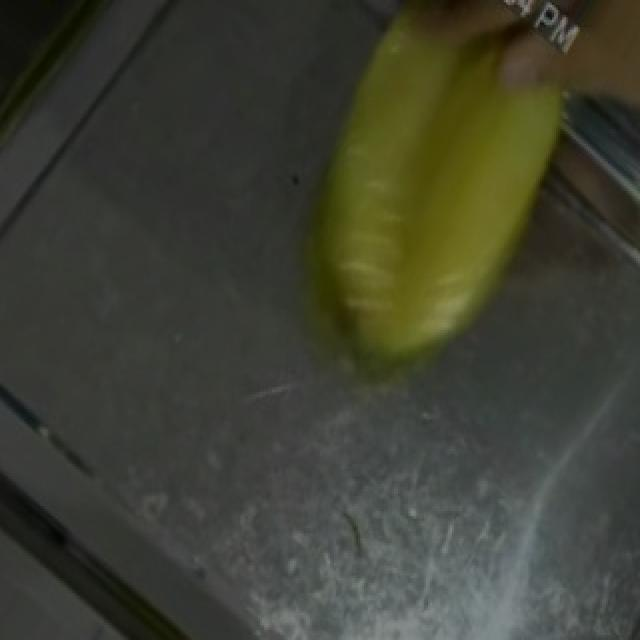fruit: (258, 0, 632, 389)
